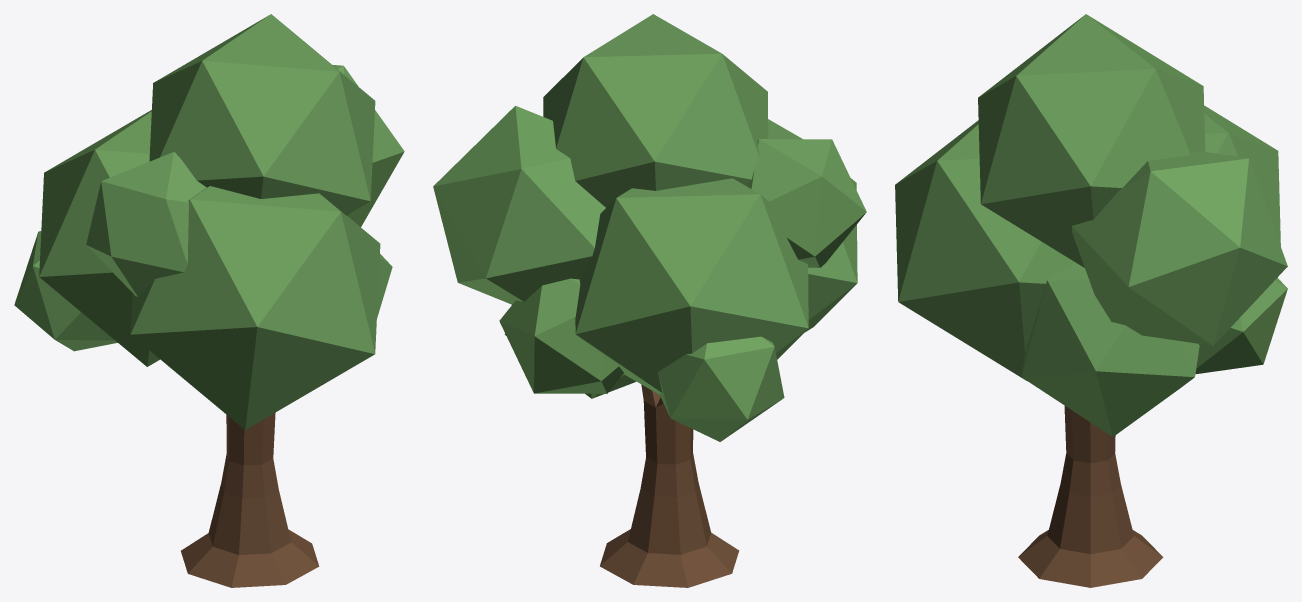
File: pohon-5.fbx
3 views of the same model, side by side, from view 1: azimuth 30°, elevation 25°; view 2: azimuth 150°, elevation 25°; view 3: azimuth 270°, elevation 25° (orthographic).
Parts seen in each view (by area): view 1: branch-2.001; view 2: branch-2.001; view 3: branch-2.001.
Part boxes in pixels (x1=…): branch-2.001: x1=14, y1=14, x2=404, y2=587; branch-2.001: x1=433, y1=14, x2=866, y2=587; branch-2.001: x1=895, y1=14, x2=1287, y2=587.
Size of the model in its own units: 1083 by 1522 by 1045.
